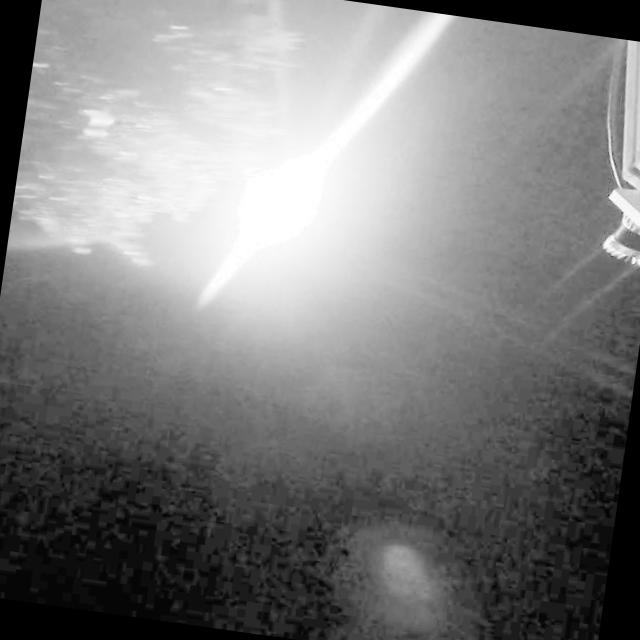Light: (222, 154, 321, 244)
